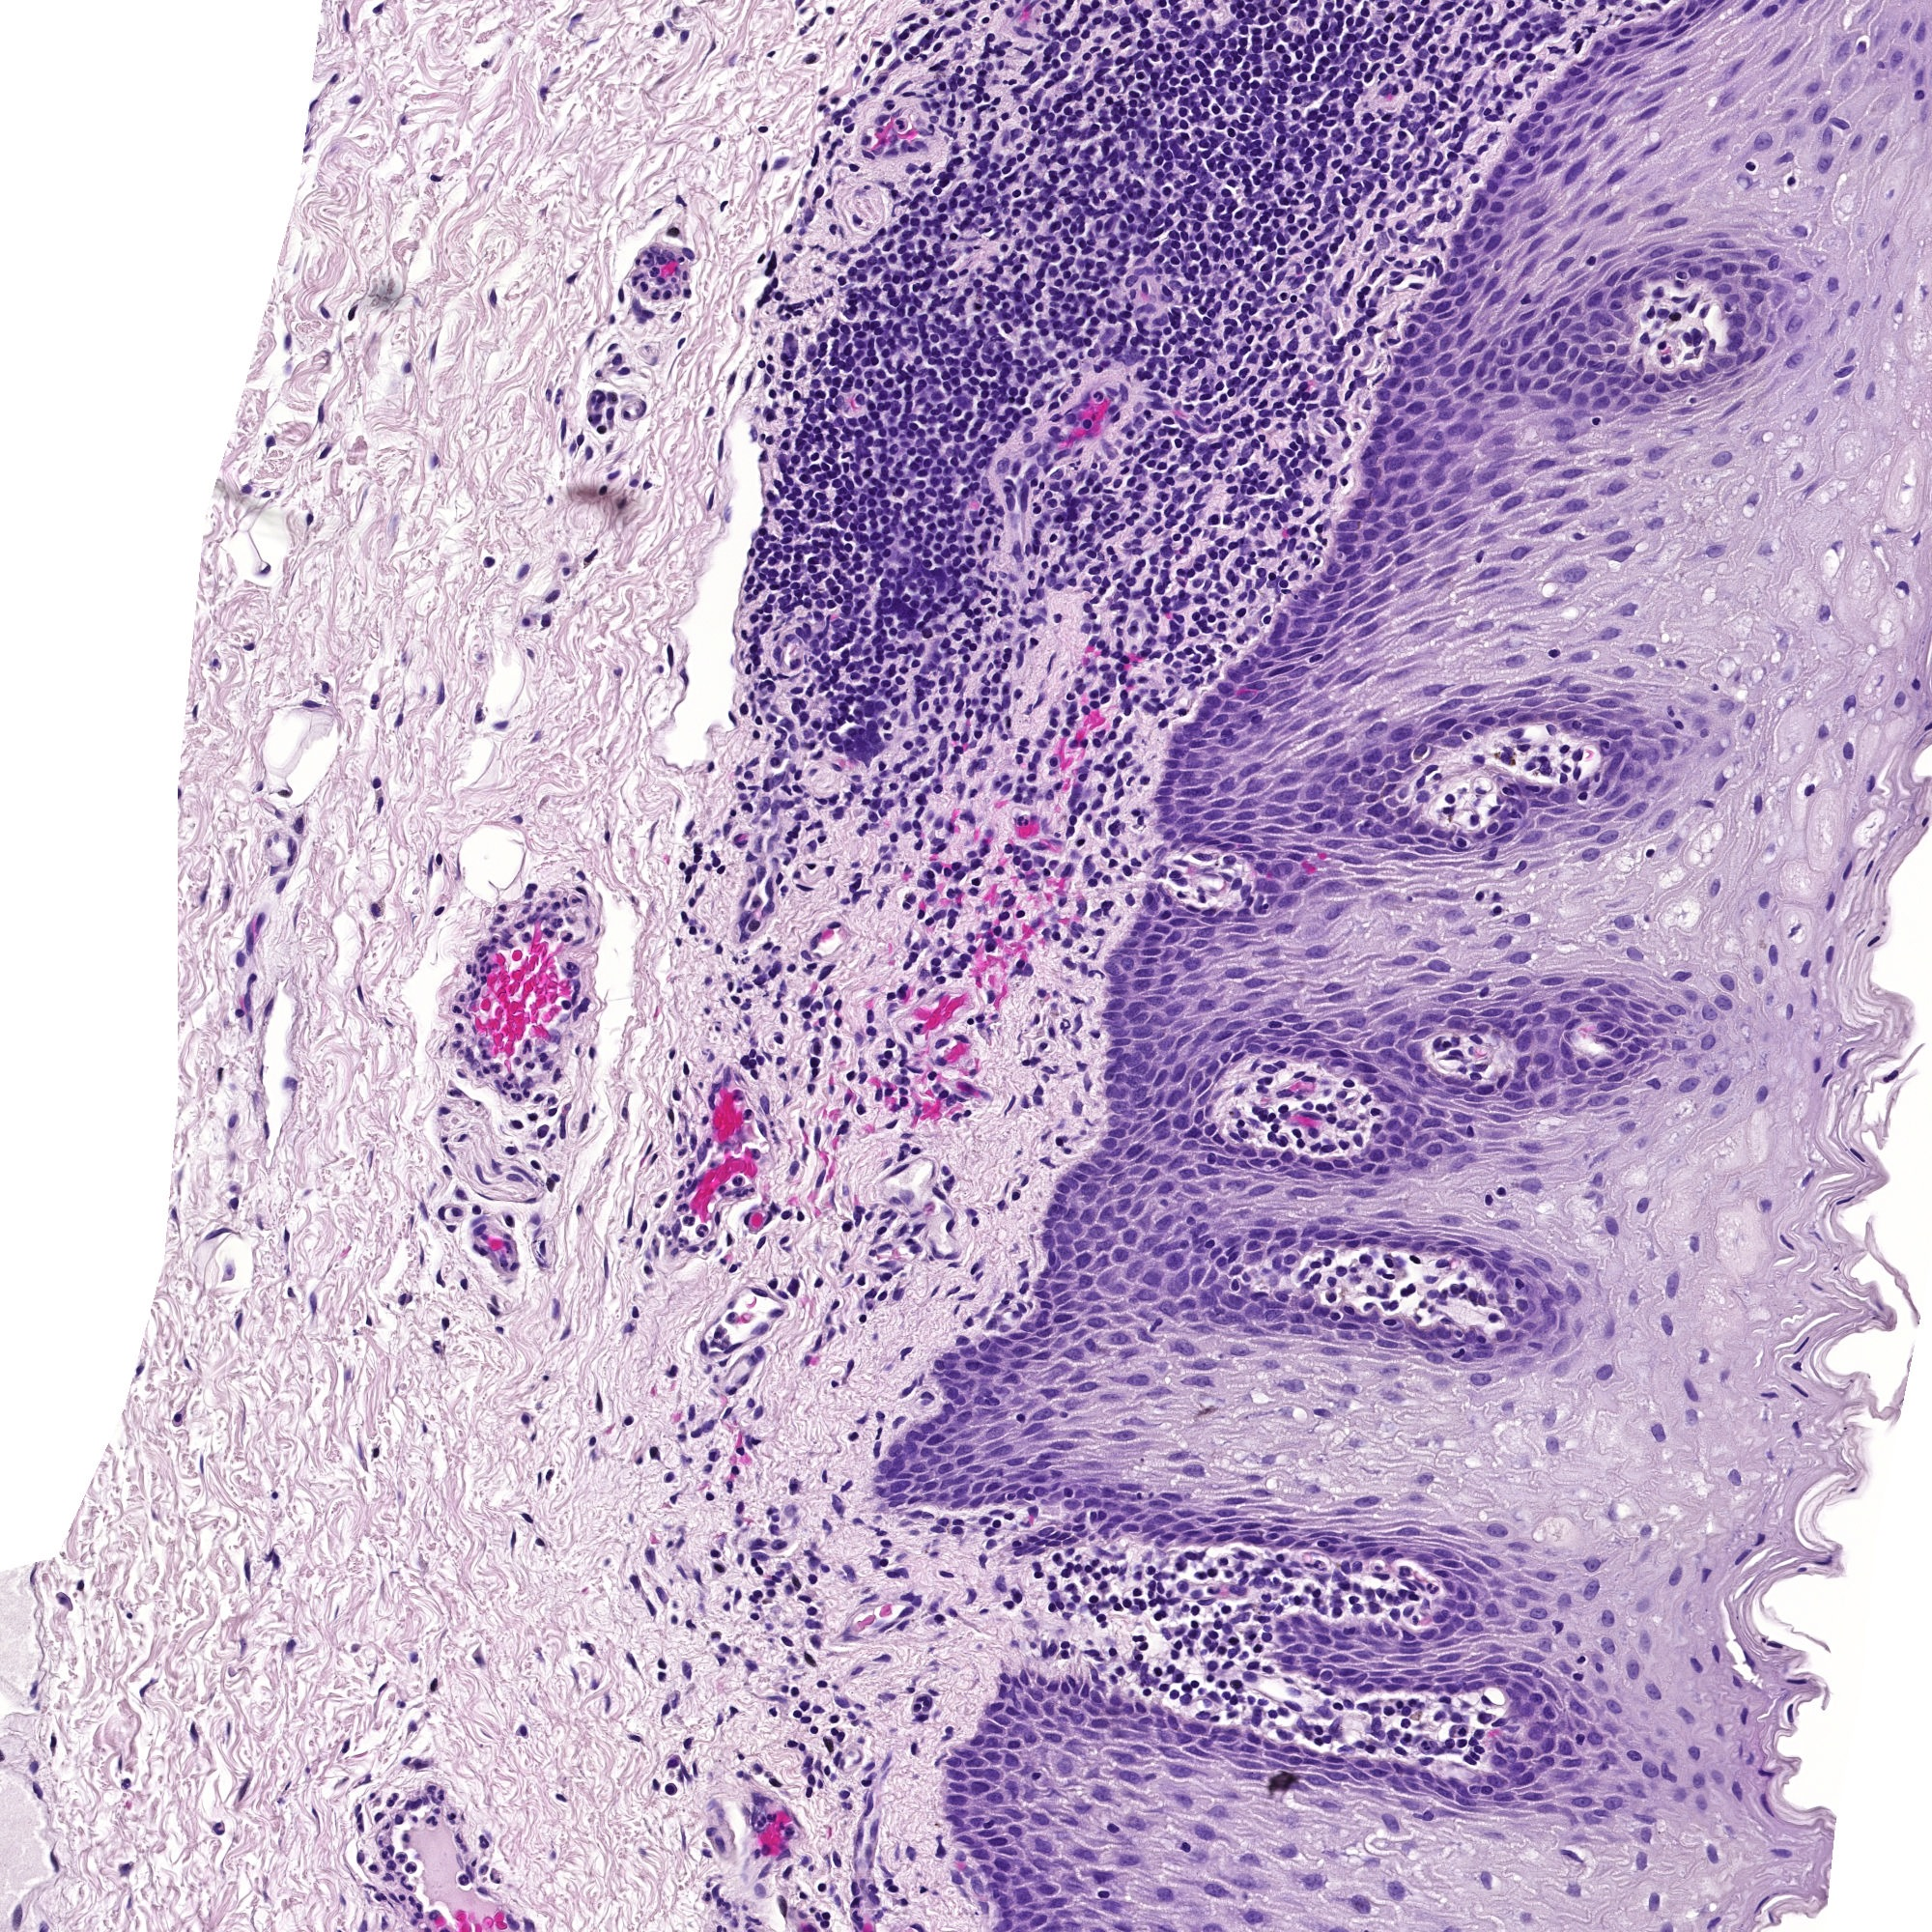epithelial: (1046, 1389, 1053, 1398), (1456, 248, 1463, 255), (1435, 290, 1442, 297), (1145, 1718, 1152, 1725), (975, 1884, 982, 1891), (1732, 1476, 1739, 1483), (1384, 1339, 1391, 1346), (1511, 660, 1518, 667), (1645, 110, 1654, 115), (1012, 1810, 1017, 1819), (1132, 1821, 1138, 1829), (1116, 1336, 1125, 1341), (1175, 1069, 1180, 1077), (1507, 1752, 1516, 1757), (1767, 7, 1773, 14), (1760, 138, 1767, 143), (1474, 230, 1479, 237), (1490, 241, 1497, 246), (1026, 1706, 1033, 1711), (1076, 1716, 1081, 1723), (1090, 1706, 1095, 1713), (1072, 1698, 1079, 1704), (1039, 1815, 1044, 1822), (1127, 1773, 1132, 1780), (1180, 1737, 1187, 1743), (1164, 1734, 1171, 1739), (1039, 1845, 1046, 1851), (1037, 1863, 1042, 1870), (1003, 1900, 1010, 1905), (985, 1867, 991, 1874), (1157, 1500, 1162, 1507), (1070, 1500, 1076, 1507), (915, 1465, 920, 1472), (920, 1476, 925, 1483), (922, 1449, 927, 1456), (1088, 1341, 1095, 1346), (1131, 1269, 1138, 1274), (1100, 1214, 1108, 1219), (1122, 1203, 1129, 1208), (1178, 1120, 1184, 1127), (1139, 1031, 1146, 1037), (1398, 1675, 1403, 1683), (1522, 1752, 1529, 1757), (1497, 1759, 1502, 1766), (1569, 1760, 1576, 1766), (1247, 1760, 1254, 1766), (1249, 1773, 1256, 1778), (1315, 1776, 1320, 1783), (1580, 1799, 1587, 1805), (1612, 1799, 1617, 1806), (1589, 1815, 1594, 1822), (1608, 1753, 1614, 1760), (1605, 1615, 1612, 1621), (1631, 1668, 1637, 1675), (1495, 1530, 1502, 1536), (1477, 1376, 1484, 1382), (1201, 1361, 1207, 1368), (1290, 1384, 1297, 1389), (1571, 1292, 1578, 1297), (1552, 1288, 1559, 1293), (1518, 1157, 1525, 1162), (1601, 1060, 1608, 1065), (1559, 794, 1566, 800), (1444, 458, 1451, 464), (1465, 366, 1470, 373), (1798, 228, 1803, 235), (1748, 1658, 1752, 1667), (1569, 471, 1578, 474), (1918, 32, 1923, 37), (1537, 103, 1543, 108), (1546, 150, 1552, 156), (1548, 166, 1553, 172), (1534, 209, 1539, 214), (1472, 203, 1477, 209), (1456, 237, 1461, 242), (991, 1755, 996, 1760), (1000, 1718, 1005, 1723), (1028, 1736, 1033, 1741), (1063, 1707, 1069, 1713), (1122, 1757, 1127, 1762), (1184, 1798, 1189, 1803), (1099, 1875, 1104, 1881), (1109, 1904, 1115, 1909), (1184, 1511, 1189, 1516), (1067, 1490, 1072, 1495), (1037, 1490, 1042, 1495), (1109, 1504, 1115, 1509), (975, 1499, 980, 1504), (957, 1500, 962, 1506), (961, 1447, 966, 1453), (911, 1433, 916, 1438), (985, 1368, 991, 1373), (1033, 1426, 1039, 1431), (1154, 1392, 1159, 1398), (1191, 1378, 1196, 1384), (1182, 1346, 1187, 1352), (1074, 1352, 1079, 1357), (1039, 1320, 1044, 1325), (1076, 1332, 1081, 1338), (1042, 1272, 1047, 1277), (1056, 1284, 1062, 1290), (1173, 1260, 1178, 1265), (1046, 1240, 1051, 1246), (1079, 1258, 1085, 1263), (1085, 1215, 1090, 1221), (1177, 1161, 1182, 1166), (1088, 1189, 1093, 1194), (1100, 1161, 1106, 1166), (1109, 1088, 1115, 1093), (1131, 1079, 1136, 1085), (1164, 1042, 1169, 1047), (1438, 1571, 1444, 1576), (1313, 1619, 1318, 1624), (1284, 1637, 1290, 1642), (1336, 1679, 1341, 1684), (1419, 1686, 1424, 1691), (1449, 1686, 1454, 1691), (1336, 1656, 1341, 1661), (1548, 1691, 1553, 1697), (1562, 1775, 1568, 1780), (1536, 1783, 1541, 1789), (1493, 1778, 1499, 1783), (1200, 1829, 1205, 1835), (1215, 1810, 1221, 1815), (1214, 1888, 1219, 1893), (1249, 1914, 1254, 1920), (1309, 1750, 1315, 1755), (1778, 1851, 1783, 1856), (1543, 1642, 1548, 1647), (1573, 1638, 1578, 1644), (1562, 1663, 1568, 1668), (1467, 1573, 1472, 1578), (1451, 1530, 1456, 1536), (1237, 1348, 1242, 1353), (1233, 1299, 1238, 1304), (1214, 1249, 1219, 1254), (1251, 1327, 1256, 1332), (1302, 1191, 1307, 1196), (1247, 1150, 1253, 1155), (1500, 1077, 1506, 1083), (1624, 1125, 1629, 1131), (1541, 1033, 1546, 1039), (1845, 748, 1851, 754), (1704, 801, 1709, 807), (1605, 833, 1610, 839), (1437, 962, 1442, 968), (1424, 943, 1430, 948), (1299, 879, 1304, 885), (1364, 879, 1369, 885), (1267, 851, 1272, 856), (1325, 810, 1330, 816), (1311, 789, 1316, 794), (1352, 796, 1357, 801), (1520, 715, 1525, 720), (1573, 573, 1578, 579), (1615, 534, 1621, 540), (1272, 639, 1277, 644), (1277, 625, 1283, 630), (1371, 513, 1376, 518), (1392, 533, 1398, 538), (1467, 412, 1472, 418), (1599, 402, 1605, 407), (1539, 462, 1545, 467), (1576, 324, 1582, 329), (1771, 260, 1776, 265), (1714, 232, 1720, 237), (1499, 439, 1504, 444), (1819, 111, 1822, 119), (1822, 163, 1829, 166), (1826, 134, 1829, 142), (1552, 96, 1559, 99), (1559, 85, 1566, 88), (1594, 96, 1601, 99), (1467, 221, 1474, 225), (1445, 276, 1453, 280), (955, 1799, 962, 1803), (1100, 1790, 1104, 1798), (1076, 1493, 1083, 1497), (1037, 1283, 1044, 1286), (1085, 1279, 1092, 1283), (1063, 1249, 1067, 1256), (1159, 1221, 1166, 1224), (1154, 1000, 1161, 1003), (1445, 1656, 1453, 1660), (1380, 1665, 1387, 1668), (1518, 1665, 1522, 1672), (1247, 1856, 1251, 1863), (1486, 1877, 1490, 1884), (1527, 1591, 1534, 1594), (1422, 1477, 1426, 1484), (1499, 1297, 1506, 1300), (1361, 1191, 1368, 1194), (1640, 1201, 1644, 1208), (1691, 993, 1695, 1000), (1640, 1028, 1644, 1035), (1529, 1007, 1536, 1010), (1463, 929, 1470, 932), (1403, 959, 1410, 962), (1348, 856, 1355, 860), (1637, 752, 1640, 759), (1430, 736, 1437, 740), (1375, 727, 1382, 731), (1644, 648, 1647, 655), (1626, 607, 1629, 614), (1488, 863, 1495, 867), (1458, 488, 1465, 492), (1831, 281, 1835, 288), (1877, 143, 1882, 147), (1854, 142, 1859, 145), (1810, 85, 1815, 88), (1787, 111, 1790, 117), (1716, 142, 1721, 145), (1614, 65, 1619, 69), (1573, 69, 1578, 73), (1453, 260, 1456, 265), (1467, 257, 1472, 260), (1470, 271, 1476, 274), (1456, 288, 1461, 292), (1461, 297, 1465, 303), (1476, 281, 1479, 287), (1488, 285, 1493, 288), (952, 1773, 955, 1778), (989, 1773, 993, 1778), (975, 1760, 980, 1764), (952, 1760, 955, 1766), (991, 1727, 994, 1732), (1000, 1693, 1005, 1697), (1012, 1697, 1016, 1702), (1014, 1683, 1019, 1686), (1017, 1727, 1023, 1730), (1046, 1723, 1051, 1727), (1072, 1681, 1076, 1686), (1109, 1709, 1113, 1714), (1139, 1707, 1143, 1713), (1155, 1709, 1159, 1714), (994, 1798, 1000, 1801), (954, 1821, 959, 1824), (998, 1819, 1001, 1824), (1079, 1808, 1085, 1812), (1139, 1748, 1143, 1753), (1180, 1769, 1184, 1775), (1169, 1752, 1175, 1755), (1191, 1748, 1194, 1753), (1012, 1829, 1017, 1833), (996, 1840, 1001, 1844), (962, 1838, 968, 1842), (998, 1863, 1003, 1867), (998, 1875, 1001, 1881), (1023, 1914, 1028, 1918), (1037, 1920, 1042, 1923), (1054, 1900, 1060, 1904), (1035, 1904, 1040, 1907), (1069, 1886, 1074, 1890), (1123, 1859, 1129, 1863), (1081, 1852, 1086, 1856), (1162, 1891, 1168, 1895), (1016, 1552, 1019, 1557), (1162, 1518, 1168, 1522), (1152, 1532, 1157, 1536), (1166, 1493, 1169, 1499), (1192, 1467, 1196, 1472), (1019, 1491, 1024, 1495), (1053, 1484, 1056, 1490), (1131, 1509, 1134, 1514), (1108, 1490, 1111, 1495), (1090, 1486, 1095, 1490), (890, 1472, 893, 1477), (1062, 1444, 1065, 1449), (1122, 1435, 1127, 1438), (943, 1447, 947, 1453), (927, 1426, 931, 1431), (932, 1437, 936, 1442), (962, 1415, 966, 1421), (947, 1408, 952, 1412), (950, 1392, 955, 1396), (994, 1430, 998, 1435), (977, 1398, 980, 1403), (962, 1384, 966, 1389), (952, 1373, 955, 1378), (938, 1362, 941, 1368), (950, 1353, 954, 1359), (971, 1364, 977, 1368), (989, 1357, 994, 1361), (1019, 1348, 1024, 1352), (1016, 1362, 1021, 1366), (1083, 1385, 1088, 1389), (1074, 1376, 1079, 1380), (1138, 1378, 1141, 1384), (1127, 1352, 1131, 1357), (1040, 1353, 1044, 1359), (1031, 1339, 1037, 1343), (1042, 1330, 1046, 1336), (1095, 1322, 1099, 1327), (1070, 1399, 1076, 1403), (1058, 1297, 1063, 1300), (1090, 1295, 1095, 1299), (1116, 1284, 1120, 1290), (1143, 1293, 1148, 1297), (1168, 1306, 1171, 1311), (1143, 1336, 1146, 1341), (1187, 1315, 1192, 1318), (1182, 1302, 1187, 1306), (1180, 1279, 1185, 1283), (1194, 1276, 1200, 1279), (1100, 1263, 1106, 1267), (1118, 1253, 1122, 1258), (1104, 1244, 1109, 1247), (1076, 1226, 1079, 1231), (1058, 1226, 1063, 1230), (1047, 1223, 1053, 1226), (1136, 1208, 1139, 1214), (1162, 1187, 1168, 1191), (1157, 1159, 1161, 1164), (1185, 1173, 1189, 1178), (1189, 1184, 1192, 1189), (1079, 1175, 1083, 1180), (1062, 1185, 1065, 1191), (1058, 1194, 1062, 1200), (1131, 1148, 1134, 1154), (1131, 1056, 1136, 1060), (1157, 1079, 1161, 1085), (1169, 1058, 1173, 1063), (1109, 1014, 1115, 1017), (1116, 987, 1122, 991), (1171, 1005, 1175, 1010), (1109, 966, 1113, 971), (1125, 962, 1129, 968), (1141, 971, 1146, 975), (1166, 954, 1169, 959), (1189, 989, 1194, 993), (1223, 1511, 1226, 1516), (1249, 1523, 1254, 1527), (1391, 1555, 1396, 1559), (1451, 1562, 1454, 1568), (1447, 1585, 1453, 1589), (1447, 1603, 1453, 1606), (1437, 1615, 1442, 1619), (1428, 1633, 1433, 1637), (1407, 1633, 1410, 1638), (1320, 1637, 1325, 1640), (1297, 1617, 1300, 1622), (1295, 1647, 1300, 1651), (1309, 1672, 1315, 1675), (1352, 1679, 1355, 1684), (1362, 1688, 1368, 1691), (1440, 1677, 1445, 1681), (1378, 1672, 1384, 1675), (1495, 1658, 1500, 1661), (1490, 1674, 1495, 1677), (1499, 1681, 1504, 1684), (1520, 1688, 1523, 1693), (1534, 1698, 1537, 1704), (1527, 1707, 1530, 1713), (1497, 1744, 1500, 1750), (1514, 1766, 1520, 1769), (1545, 1743, 1550, 1746), (1546, 1759, 1550, 1764), (1529, 1796, 1534, 1799), (1504, 1796, 1509, 1799), (1286, 1851, 1290, 1856), (1311, 1881, 1316, 1884), (1359, 1904, 1362, 1909), (1525, 1916, 1530, 1920), (1389, 1822, 1394, 1826), (1327, 1803, 1330, 1808), (1224, 1737, 1230, 1741), (1311, 1760, 1315, 1766), (1334, 1775, 1339, 1778), (1357, 1773, 1361, 1778), (1382, 1764, 1387, 1767), (1394, 1780, 1398, 1785), (1652, 1900, 1656, 1905), (1638, 1861, 1644, 1865), (1709, 1852, 1714, 1856), (1796, 1681, 1801, 1684), (1773, 1642, 1776, 1647), (1667, 1773, 1670, 1778), (1651, 1769, 1654, 1775), (1633, 1755, 1637, 1760), (1651, 1691, 1654, 1697), (1644, 1640, 1647, 1645), (1488, 1610, 1493, 1614), (1460, 1594, 1463, 1599), (1490, 1560, 1493, 1566), (1543, 1575, 1548, 1578), (1591, 1562, 1594, 1568), (1672, 1578, 1677, 1582), (1796, 1426, 1799, 1431), (1794, 1366, 1799, 1369), (1691, 1414, 1695, 1419), (1656, 1431, 1661, 1435), (1644, 1530, 1647, 1536), (1548, 1419, 1552, 1424), (1606, 1329, 1612, 1332), (1364, 1500, 1369, 1504), (1431, 1357, 1437, 1361), (1417, 1343, 1421, 1348), (1364, 1332, 1368, 1338), (1502, 1332, 1506, 1338), (1484, 1345, 1488, 1350), (1270, 1362, 1274, 1368), (1389, 1369, 1394, 1373), (1260, 1490, 1263, 1495), (1341, 1509, 1346, 1513), (1295, 1316, 1300, 1320), (1269, 1313, 1274, 1316), (1253, 1309, 1256, 1315), (1205, 1297, 1208, 1302), (1279, 1297, 1284, 1300), (1343, 1334, 1348, 1338), (1329, 1322, 1332, 1327), (1499, 1284, 1504, 1288), (1580, 1267, 1583, 1272), (1539, 1263, 1545, 1267), (1560, 1346, 1566, 1350), (1560, 1368, 1566, 1371), (1330, 1242, 1336, 1246), (1306, 1242, 1309, 1247), (1260, 1233, 1263, 1238), (1228, 1238, 1233, 1242), (1254, 1254, 1258, 1260), (1203, 1168, 1208, 1171), (1339, 1161, 1343, 1166), (1323, 1164, 1327, 1169), (1267, 1152, 1270, 1157), (1353, 1159, 1359, 1162), (1417, 1139, 1422, 1143), (1394, 1108, 1399, 1111), (1431, 1148, 1437, 1152), (1437, 1111, 1440, 1116), (1412, 1051, 1417, 1054), (1369, 1042, 1375, 1046), (1343, 1035, 1348, 1039), (1290, 1016, 1293, 1021), (1405, 1026, 1408, 1031), (1433, 1016, 1437, 1021), (1461, 985, 1465, 991), (1539, 1058, 1545, 1062), (1532, 1079, 1536, 1085), (1529, 1182, 1532, 1187), (1530, 1146, 1536, 1150), (1610, 1223, 1614, 1228), (1670, 1283, 1674, 1288), (1693, 1242, 1697, 1247), (1720, 1083, 1725, 1086), (1686, 1085, 1691, 1088), (1568, 1067, 1571, 1072), (1592, 1070, 1596, 1076), (1812, 996, 1815, 1001), (1828, 952, 1831, 957), (1771, 955, 1776, 959), (1757, 973, 1760, 978), (1727, 980, 1732, 984), (1707, 1012, 1713, 1016), (1674, 1008, 1677, 1014), (1658, 1016, 1661, 1021), (1619, 987, 1622, 993), (1635, 1005, 1638, 1010), (1571, 1021, 1576, 1024), (1568, 994, 1571, 1000), (1522, 1039, 1527, 1042), (1520, 918, 1525, 922), (1633, 952, 1637, 957), (1713, 888, 1716, 893), (1847, 701, 1851, 706), (1750, 718, 1753, 724), (1718, 780, 1723, 784), (1674, 842, 1677, 847), (1635, 809, 1640, 812), (1587, 828, 1591, 833), (1451, 915, 1456, 918), (1424, 977, 1428, 982), (1233, 1023, 1238, 1026), (1376, 1005, 1380, 1010), (1315, 950, 1320, 954), (1152, 936, 1157, 939), (1332, 908, 1336, 913), (1332, 885, 1338, 888), (1362, 869, 1368, 872), (1302, 846, 1307, 849), (1258, 867, 1263, 870), (1247, 846, 1253, 849), (1224, 846, 1230, 849), (1240, 837, 1244, 842), (1185, 837, 1189, 842), (1212, 812, 1215, 817), (1168, 833, 1173, 837), (1221, 801, 1226, 805), (1247, 801, 1251, 807), (1307, 805, 1311, 810), (1313, 826, 1316, 832), (1339, 816, 1345, 819), (1391, 771, 1394, 777), (1614, 759, 1617, 764), (1624, 770, 1628, 775), (1615, 732, 1619, 738), (1605, 699, 1608, 704), (1667, 741, 1670, 747), (1444, 722, 1449, 725), (1530, 699, 1536, 702), (1431, 688, 1437, 692), (1431, 717, 1437, 720), (1622, 671, 1626, 676), (1578, 655, 1583, 658), (1297, 722, 1300, 727), (1488, 571, 1493, 575), (1364, 630, 1368, 635), (1332, 637, 1336, 642), (1330, 594, 1334, 600), (1175, 752, 1178, 757), (1177, 736, 1182, 740), (1212, 701, 1215, 706), (1207, 732, 1212, 736), (1254, 718, 1260, 722), (1762, 548, 1767, 552), (1571, 504, 1576, 508), (1615, 487, 1621, 490), (1656, 453, 1661, 456), (1509, 501, 1514, 504), (1499, 488, 1504, 492), (1440, 502, 1444, 508), (1453, 520, 1458, 524), (1399, 543, 1405, 547), (1486, 524, 1490, 529), (1353, 511, 1357, 517), (1384, 418, 1387, 423), (1369, 533, 1373, 538), (1380, 584, 1384, 589), (1398, 517, 1401, 522), (1398, 501, 1403, 504), (1405, 479, 1410, 483), (1437, 478, 1440, 483), (1419, 458, 1422, 464), (1415, 405, 1419, 410), (1384, 393, 1387, 398), (1421, 370, 1424, 375), (1405, 345, 1408, 350), (1399, 357, 1403, 363), (1394, 370, 1399, 373), (1442, 357, 1445, 363), (1479, 370, 1484, 373), (1486, 354, 1490, 359), (1506, 386, 1509, 391), (1504, 373, 1507, 379), (1502, 359, 1506, 364), (1522, 357, 1525, 363), (1522, 382, 1527, 386), (1506, 402, 1511, 405), (1578, 398, 1582, 403), (1649, 396, 1652, 402), (1426, 306, 1430, 311), (1433, 326, 1437, 331), (1621, 349, 1626, 352), (1596, 364, 1599, 370), (1610, 377, 1614, 382), (1624, 380, 1629, 384), (1707, 366, 1711, 372), (1730, 345, 1736, 349), (1792, 322, 1798, 326), (1852, 306, 1856, 311), (1721, 241, 1725, 246), (1693, 269, 1698, 272), (1596, 207, 1599, 212), (1522, 124, 1525, 129), (1534, 113, 1537, 119), (1596, 44, 1601, 48), (1688, 5, 1693, 9), (1836, 120, 1840, 124), (1916, 78, 1920, 81), (1918, 94, 1921, 97), (1893, 57, 1897, 60), (1904, 27, 1907, 30), (1842, 50, 1845, 53), (1677, 69, 1681, 73), (1596, 122, 1603, 124), (1490, 186, 1493, 189), (1497, 205, 1500, 209), (1495, 295, 1499, 299), (964, 1752, 968, 1755), (975, 1741, 978, 1744), (994, 1706, 998, 1709), (1003, 1677, 1007, 1681), (1023, 1677, 1026, 1681), (1035, 1693, 1039, 1697), (1012, 1743, 1016, 1746), (1010, 1759, 1014, 1762), (977, 1787, 980, 1790), (957, 1785, 961, 1789), (1047, 1706, 1051, 1709), (1053, 1737, 1056, 1741), (1063, 1766, 1067, 1769), (1095, 1698, 1099, 1702), (1115, 1700, 1118, 1704), (1125, 1709, 1129, 1713), (1069, 1819, 1072, 1822), (1171, 1723, 1175, 1727), (985, 1833, 989, 1836), (978, 1852, 982, 1856), (1044, 1888, 1047, 1891), (1023, 1895, 1026, 1898), (1007, 1913, 1010, 1916), (1003, 1925, 1007, 1928), (1063, 1913, 1067, 1916), (1044, 1530, 1047, 1534), (1030, 1537, 1033, 1541), (1090, 1514, 1093, 1518), (1100, 1514, 1104, 1518), (1106, 1527, 1109, 1530), (1129, 1527, 1132, 1530), (1148, 1527, 1152, 1530), (1168, 1536, 1171, 1539), (1180, 1527, 1184, 1530), (1178, 1454, 1182, 1458), (1129, 1484, 1132, 1488), (939, 1497, 943, 1500), (929, 1497, 932, 1500), (897, 1495, 901, 1499), (897, 1484, 901, 1488), (878, 1477, 881, 1481), (893, 1447, 897, 1451), (897, 1458, 901, 1461), (927, 1484, 931, 1488), (943, 1467, 947, 1470), (977, 1486, 980, 1490), (991, 1486, 994, 1490), (971, 1467, 975, 1470), (964, 1460, 968, 1463), (934, 1458, 938, 1461), (908, 1447, 911, 1451), (941, 1417, 945, 1421), (948, 1428, 952, 1431), (959, 1399, 962, 1403), (964, 1433, 968, 1437), (989, 1401, 993, 1405), (968, 1350, 971, 1353), (961, 1338, 964, 1341), (982, 1343, 985, 1346), (994, 1348, 998, 1352), (1000, 1391, 1003, 1394), (1042, 1412, 1046, 1415), (1058, 1343, 1062, 1346), (1024, 1325, 1028, 1329), (1134, 1421, 1138, 1424), (1120, 1316, 1123, 1320), (1051, 1256, 1054, 1260), (1062, 1238, 1065, 1242), (1065, 1274, 1069, 1277), (1127, 1235, 1131, 1238), (1095, 1231, 1099, 1235), (1079, 1244, 1083, 1247), (1118, 1223, 1122, 1226), (1125, 1189, 1129, 1192), (1143, 1189, 1146, 1192), (1115, 1177, 1118, 1180), (1115, 1168, 1118, 1171), (1070, 1180, 1074, 1184), (1115, 1131, 1118, 1134), (1169, 1097, 1173, 1100), (1116, 1104, 1120, 1108), (1108, 1074, 1111, 1077), (1111, 1053, 1115, 1056), (1115, 1031, 1118, 1035), (1139, 1069, 1143, 1072), (1150, 1074, 1154, 1077), (1120, 1076, 1123, 1079), (1141, 982, 1145, 985), (1138, 1019, 1141, 1023), (1154, 1019, 1157, 1023), (1118, 978, 1122, 982), (1182, 954, 1185, 957), (1201, 1539, 1205, 1543), (1233, 1500, 1237, 1504), (1284, 1539, 1288, 1543), (1329, 1548, 1332, 1552), (1408, 1530, 1412, 1534), (1389, 1629, 1392, 1633), (1373, 1629, 1376, 1633), (1283, 1626, 1286, 1629), (1286, 1658, 1290, 1661), (1343, 1644, 1346, 1647), (1376, 1679, 1380, 1683), (1472, 1684, 1476, 1688), (1472, 1626, 1476, 1629), (1444, 1642, 1447, 1645), (1511, 1693, 1514, 1697), (1546, 1713, 1550, 1716), (1536, 1732, 1539, 1736), (1523, 1778, 1527, 1782), (1396, 1891, 1399, 1895), (1207, 1741, 1210, 1744), (1251, 1737, 1254, 1741), (1269, 1744, 1272, 1748), (1293, 1759, 1297, 1762), (1290, 1748, 1293, 1752), (1330, 1757, 1334, 1760), (1399, 1767, 1403, 1771), (1412, 1783, 1415, 1787), (1424, 1775, 1428, 1778), (1442, 1790, 1445, 1794), (1453, 1782, 1456, 1785), (1575, 1706, 1578, 1709), (1582, 1688, 1583, 1695), (1589, 1591, 1592, 1594), (1679, 1794, 1683, 1798), (1697, 1780, 1700, 1783), (1764, 1771, 1767, 1775), (1716, 1776, 1720, 1780), (1789, 1714, 1792, 1718), (1695, 1663, 1698, 1667), (1684, 1714, 1688, 1718), (1530, 1654, 1534, 1658), (1529, 1626, 1532, 1629), (1562, 1599, 1566, 1603), (1472, 1592, 1476, 1596), (1516, 1601, 1520, 1605), (1769, 1392, 1773, 1396), (1690, 1389, 1693, 1392), (1516, 1546, 1520, 1550), (1550, 1444, 1552, 1451), (1667, 1323, 1670, 1327), (1322, 1412, 1325, 1415), (1330, 1350, 1334, 1353), (1269, 1458, 1272, 1461), (1251, 1476, 1254, 1479), (1299, 1327, 1302, 1330), (1231, 1316, 1235, 1320), (1276, 1325, 1279, 1329), (1320, 1311, 1323, 1315), (1306, 1302, 1309, 1306), (1346, 1323, 1350, 1327), (1506, 1309, 1509, 1313), (1514, 1318, 1518, 1322), (1545, 1302, 1548, 1306), (1529, 1267, 1532, 1270), (1514, 1270, 1518, 1274), (1550, 1315, 1553, 1318), (1490, 1276, 1493, 1279), (1476, 1261, 1479, 1265), (1500, 1254, 1504, 1258), (1309, 1230, 1313, 1233), (1504, 1223, 1507, 1226), (1283, 1231, 1286, 1235), (1235, 1269, 1238, 1272), (1233, 1256, 1237, 1260), (1223, 1159, 1226, 1162), (1272, 1161, 1276, 1164), (1201, 1097, 1205, 1100), (1297, 1051, 1300, 1054), (1336, 1053, 1339, 1056), (1369, 1077, 1371, 1085), (1384, 1095, 1387, 1099), (1375, 1154, 1378, 1157), (1392, 1150, 1396, 1154), (1394, 1138, 1398, 1141), (1378, 1138, 1382, 1141), (1364, 1150, 1368, 1154), (1417, 1161, 1421, 1164), (1405, 1131, 1408, 1134), (1408, 1118, 1412, 1122), (1445, 1136, 1449, 1139), (1430, 1122, 1433, 1125), (1460, 1116, 1463, 1120), (1392, 1086, 1396, 1090), (1421, 1067, 1424, 1070), (1361, 1054, 1364, 1058), (1396, 1017, 1399, 1021), (1421, 1031, 1424, 1035), (1460, 1010, 1463, 1014), (1447, 996, 1451, 1000), (1454, 1081, 1458, 1085), (1483, 1088, 1486, 1092), (1522, 1102, 1525, 1106), (1497, 1116, 1500, 1120), (1631, 1297, 1635, 1300), (1652, 1083, 1656, 1086), (1575, 1090, 1578, 1093), (1566, 1051, 1569, 1054), (1615, 1076, 1619, 1079), (1706, 1039, 1709, 1042), (1764, 1203, 1767, 1207), (1787, 1012, 1790, 1016), (1723, 1001, 1727, 1005), (1619, 1031, 1622, 1035), (1559, 1014, 1562, 1017), (1516, 980, 1520, 984), (1522, 1062, 1525, 1065), (1518, 1021, 1522, 1024), (1518, 957, 1522, 961), (1762, 899, 1766, 902), (1898, 697, 1902, 701), (1605, 814, 1608, 817), (1447, 893, 1451, 897), (1235, 971, 1238, 975), (1338, 996, 1341, 1000), (1283, 927, 1286, 931), (1244, 927, 1247, 931), (1196, 941, 1200, 945), (1169, 936, 1173, 939), (1205, 931, 1208, 934), (1286, 897, 1288, 904), (1269, 886, 1272, 890), (1279, 867, 1283, 870), (1293, 855, 1297, 858), (1240, 824, 1244, 828), (1184, 819, 1187, 823), (1169, 819, 1173, 823), (1171, 773, 1175, 777), (1185, 791, 1189, 794), (1191, 809, 1194, 812), (1226, 782, 1230, 786), (1284, 796, 1288, 800), (1272, 810, 1276, 814), (1272, 828, 1276, 832), (1376, 810, 1380, 814), (1399, 810, 1403, 814), (1401, 791, 1405, 794), (1350, 763, 1353, 766), (1371, 754, 1375, 757), (1401, 754, 1405, 757), (1421, 828, 1424, 832), (1437, 833, 1440, 837), (1426, 839, 1430, 842), (1387, 844, 1391, 847), (1424, 849, 1428, 853), (1536, 801, 1539, 805), (1599, 787, 1603, 791), (1651, 755, 1654, 759), (1608, 711, 1612, 715), (1449, 740, 1453, 743), (1456, 727, 1460, 731), (1449, 702, 1453, 706), (1315, 759, 1318, 763), (1578, 686, 1582, 690), (1369, 713, 1373, 717), (1483, 625, 1486, 628), (1419, 626, 1422, 630), (1345, 674, 1348, 678), (1320, 681, 1323, 685), (1622, 552, 1626, 556), (1714, 548, 1718, 552), (1548, 525, 1552, 529), (1516, 552, 1520, 556), (1442, 571, 1445, 575), (1362, 617, 1369, 619), (1311, 640, 1315, 644), (1214, 761, 1217, 764), (1203, 711, 1207, 715), (1196, 741, 1200, 745), (1226, 740, 1230, 743), (1283, 692, 1286, 695), (1244, 694, 1247, 697), (1295, 671, 1299, 674), (1295, 633, 1299, 637), (1545, 817, 1548, 821), (1753, 499, 1757, 502), (1622, 460, 1626, 464), (1401, 557, 1405, 561), (1576, 534, 1580, 538), (1330, 566, 1334, 570), (1345, 547, 1348, 550), (1346, 534, 1350, 538), (1394, 462, 1398, 465), (1366, 550, 1369, 554), (1419, 508, 1422, 511), (1414, 497, 1417, 501), (1405, 384, 1408, 387), (1490, 384, 1493, 387), (1564, 393, 1568, 396), (1587, 375, 1591, 379), (1598, 387, 1601, 391), (1622, 402, 1626, 405), (1545, 402, 1548, 405), (1444, 341, 1447, 345), (1461, 336, 1465, 340), (1527, 334, 1530, 338), (1428, 347, 1431, 350), (1568, 241, 1571, 244), (1562, 262, 1566, 265), (1571, 352, 1575, 356), (1591, 349, 1594, 352), (1605, 318, 1608, 322), (1615, 303, 1619, 306), (1610, 278, 1614, 281), (1626, 274, 1629, 278), (1608, 334, 1612, 338), (1610, 363, 1614, 366), (1677, 384, 1681, 387), (1737, 318, 1741, 322), (1759, 350, 1762, 354), (1767, 334, 1771, 338), (1792, 361, 1796, 364), (1801, 274, 1805, 278), (1748, 267, 1752, 271), (1734, 297, 1737, 301), (1713, 272, 1716, 276), (1736, 253, 1739, 257), (1658, 249, 1661, 253), (1661, 207, 1665, 211), (1614, 216, 1617, 219), (1562, 421, 1566, 425), (1509, 156, 1513, 159), (1555, 129, 1559, 133), (1573, 142, 1576, 145), (1615, 175, 1619, 179), (1629, 67, 1633, 71), (1606, 48, 1610, 51), (1674, 14, 1677, 18), (1645, 41, 1651, 42), (1573, 170, 1578, 172), (1097, 1721, 1099, 1727), (1115, 1518, 1120, 1520), (1054, 1472, 1056, 1477), (885, 1490, 886, 1495), (1037, 1477, 1042, 1479), (1077, 1433, 1083, 1435), (1010, 1378, 1016, 1380), (1044, 1343, 1046, 1348), (1058, 1316, 1063, 1318), (1067, 1325, 1072, 1327), (1037, 1293, 1042, 1295), (1150, 1277, 1152, 1283), (1171, 1288, 1177, 1290), (1150, 1173, 1152, 1178), (1088, 1166, 1090, 1171), (1108, 1141, 1109, 1146), (1118, 1042, 1123, 1044), (1136, 1095, 1141, 1097), (1191, 975, 1196, 977), (1315, 1534, 1320, 1536), (1345, 1672, 1350, 1674), (1405, 1658, 1410, 1660), (1525, 1677, 1527, 1683), (1511, 1729, 1516, 1730), (1566, 1746, 1568, 1752), (1244, 1748, 1249, 1750), (1330, 1766, 1336, 1767), (1594, 1736, 1596, 1741), (1698, 1801, 1704, 1803), (1736, 1789, 1737, 1794), (1741, 1716, 1746, 1718), (1642, 1603, 1644, 1608), (1465, 1612, 1470, 1614), (1603, 1371, 1605, 1376), (1479, 1353, 1484, 1355), (1348, 1387, 1350, 1392), (1387, 1214, 1392, 1215), (1187, 1145, 1192, 1146), (1258, 1189, 1263, 1191), (1196, 1230, 1201, 1231), (1272, 1046, 1274, 1051), (1392, 1122, 1394, 1127), (1376, 1127, 1382, 1129), (1357, 1021, 1359, 1026), (1299, 1026, 1304, 1028), (1856, 1152, 1858, 1157), (1844, 1056, 1845, 1062), (1679, 977, 1684, 978), (1638, 1039, 1640, 1044), (1601, 1024, 1606, 1026), (1550, 980, 1555, 982), (1537, 1016, 1539, 1021), (1624, 920, 1626, 925), (1663, 819, 1665, 824), (1178, 920, 1180, 925), (1214, 950, 1219, 952), (1254, 786, 1256, 791), (1302, 816, 1304, 821), (1401, 732, 1403, 738), (1387, 761, 1392, 763), (1387, 819, 1392, 821), (1530, 787, 1532, 793), (1288, 778, 1293, 780), (1555, 702, 1557, 708), (1548, 713, 1550, 718), (1315, 729, 1320, 731), (1231, 702, 1233, 708), (1235, 674, 1237, 679), (1553, 492, 1559, 494), (1373, 469, 1375, 474), (1378, 432, 1380, 437), (1415, 384, 1421, 386), (1463, 387, 1465, 393), (1555, 387, 1557, 393), (1614, 391, 1615, 396), (1442, 304, 1444, 310), (1619, 366, 1621, 372), (1649, 377, 1651, 382), (1760, 281, 1762, 287), (1778, 292, 1780, 297), (1729, 265, 1730, 271), (1635, 285, 1640, 287), (1780, 57, 1782, 60), (1677, 28, 1681, 30), (1622, 30, 1626, 32), (1582, 78, 1585, 80), (973, 1771, 977, 1773), (991, 1741, 993, 1744), (1010, 1709, 1012, 1713), (1040, 1679, 1042, 1683), (1053, 1686, 1054, 1690), (1065, 1688, 1067, 1691), (1035, 1775, 1037, 1778), (1083, 1693, 1086, 1695), (1012, 1787, 1014, 1790), (975, 1821, 978, 1822), (985, 1824, 989, 1826), (1192, 1727, 1194, 1730), (1007, 1851, 1010, 1852), (1024, 1870, 1026, 1874), (1051, 1928, 1054, 1930), (1039, 1543, 1042, 1545), (1031, 1548, 1033, 1552), (1054, 1534, 1058, 1536), (1076, 1529, 1079, 1530), (1191, 1532, 1192, 1536), (1139, 1516, 1141, 1520), (998, 1499, 1001, 1500), (885, 1465, 886, 1468), (897, 1467, 901, 1468), (904, 1476, 908, 1477), (913, 1488, 916, 1490), (947, 1483, 950, 1484), (961, 1488, 962, 1491), (1010, 1486, 1014, 1488), (985, 1474, 989, 1476), (1014, 1460, 1016, 1463), (1037, 1465, 1040, 1467), (1046, 1454, 1047, 1458), (1001, 1451, 1005, 1453), (994, 1442, 998, 1444), (984, 1391, 987, 1392), (1001, 1341, 1003, 1345), (1016, 1336, 1019, 1338), (1109, 1396, 1111, 1399), (1044, 1304, 1047, 1306), (1067, 1306, 1070, 1307), (1097, 1307, 1099, 1311), (1154, 1323, 1157, 1325), (1146, 1242, 1148, 1246), (1053, 1210, 1054, 1214), (1069, 1215, 1072, 1217), (1157, 1116, 1161, 1118), (1113, 1120, 1116, 1122), (1143, 1104, 1146, 1106), (1134, 1125, 1136, 1129), (1115, 1003, 1118, 1005), (1129, 1012, 1132, 1014), (1184, 1039, 1185, 1042), (1180, 1023, 1184, 1024), (1162, 991, 1166, 993), (1148, 959, 1150, 962), (1164, 980, 1168, 982), (1164, 968, 1168, 970), (1191, 962, 1194, 964), (1143, 1155, 1146, 1157), (1221, 1527, 1224, 1529), (1205, 1518, 1207, 1522), (1223, 1536, 1224, 1539), (1276, 1527, 1279, 1529), (1299, 1545, 1302, 1546), (1368, 1552, 1371, 1553), (1387, 1550, 1389, 1553), (1361, 1537, 1364, 1539), (1424, 1557, 1426, 1560), (1444, 1552, 1445, 1555), (1346, 1629, 1350, 1631), (1336, 1635, 1339, 1637), (1315, 1651, 1318, 1652), (1389, 1688, 1392, 1690), (1470, 1675, 1474, 1677), (1410, 1672, 1414, 1674), (1408, 1651, 1412, 1652), (1456, 1621, 1458, 1624), (1484, 1667, 1488, 1668), (1573, 1891, 1576, 1893), (1233, 1730, 1235, 1734), (1276, 1753, 1277, 1757), (1378, 1771, 1380, 1775), (1461, 1790, 1463, 1794), (1463, 1799, 1465, 1803), (1614, 1706, 1615, 1709), (1599, 1684, 1603, 1686), (1608, 1644, 1610, 1647), (1644, 1819, 1647, 1821), (1764, 1803, 1766, 1806), (1750, 1759, 1752, 1762), (1716, 1654, 1718, 1658), (1718, 1730, 1720, 1734), (1693, 1752, 1697, 1753), (1537, 1614, 1541, 1615), (1460, 1608, 1463, 1610), (1476, 1568, 1479, 1569), (1706, 1573, 1707, 1576), (1737, 1557, 1741, 1559), (1760, 1537, 1762, 1541), (1798, 1389, 1801, 1391), (1704, 1357, 1707, 1359), (1210, 1276, 1212, 1279), (1221, 1261, 1223, 1265), (1520, 1306, 1523, 1307), (1529, 1323, 1530, 1327), (1474, 1249, 1476, 1253), (1461, 1251, 1463, 1254), (1468, 1238, 1470, 1242), (1419, 1246, 1421, 1249), (1398, 1244, 1399, 1247), (1382, 1231, 1384, 1235), (1352, 1244, 1355, 1246), (1350, 1233, 1352, 1237), (1323, 1233, 1325, 1237), (1330, 1219, 1332, 1223), (1284, 1240, 1288, 1242), (1265, 1223, 1269, 1224), (1276, 1261, 1277, 1265), (1253, 1246, 1256, 1247), (1192, 1131, 1194, 1134), (1200, 1207, 1203, 1208), (1382, 1169, 1384, 1173), (1366, 1168, 1369, 1169), (1295, 1173, 1299, 1175), (1256, 1162, 1260, 1164), (1207, 1146, 1210, 1148), (1224, 1054, 1226, 1058), (1235, 1044, 1237, 1047), (1253, 1047, 1254, 1051), (1456, 1148, 1460, 1150), (1403, 1072, 1405, 1076), (1401, 1058, 1403, 1062), (1387, 1039, 1389, 1042), (1309, 1033, 1311, 1037), (1453, 1024, 1456, 1026), (1454, 1090, 1458, 1092), (1511, 1095, 1514, 1097), (1546, 1100, 1550, 1102), (1596, 1178, 1598, 1182), (1529, 1166, 1530, 1169), (1718, 1108, 1720, 1111), (1599, 1099, 1603, 1100), (1576, 1079, 1580, 1081), (1606, 1086, 1610, 1088), (1629, 1058, 1631, 1062), (1619, 1053, 1621, 1056), (1677, 1044, 1679, 1047), (1760, 1095, 1764, 1097), (1805, 1178, 1808, 1180), (1844, 1200, 1847, 1201), (1815, 1065, 1819, 1067), (1803, 970, 1806, 971), (1874, 939, 1875, 943), (1596, 1000, 1598, 1003), (1615, 1001, 1617, 1005), (1631, 1047, 1633, 1051), (1608, 1040, 1610, 1044), (1585, 1007, 1587, 1010), (1490, 1012, 1493, 1014), (1511, 1033, 1513, 1037), (1500, 1023, 1504, 1024), (1507, 1012, 1509, 1016), (1476, 975, 1477, 978), (1504, 941, 1506, 945), (1755, 805, 1759, 807), (1845, 869, 1847, 872), (1829, 904, 1833, 906), (1822, 731, 1824, 734), (1591, 853, 1592, 856), (1530, 835, 1532, 839), (1221, 1035, 1224, 1037), (1205, 1003, 1207, 1007), (1161, 927, 1162, 931), (1148, 952, 1152, 954), (1131, 941, 1134, 943), (1125, 950, 1127, 954), (1139, 925, 1143, 927), (1148, 899, 1150, 902), (1164, 915, 1168, 916), (1223, 913, 1224, 916), (1244, 911, 1246, 915), (1246, 855, 1247, 858), (1192, 824, 1194, 828), (1215, 824, 1219, 826), (1246, 814, 1247, 817), (1161, 870, 1162, 874), (1164, 809, 1168, 810), (1164, 791, 1168, 793), (1166, 780, 1168, 784), (1185, 777, 1189, 778), (1249, 770, 1253, 771), (1284, 821, 1286, 824), (1338, 782, 1339, 786), (1392, 800, 1394, 803), (1376, 780, 1378, 784), (1369, 770, 1371, 773), (1353, 778, 1357, 780), (1417, 750, 1421, 752), (1405, 823, 1407, 826), (1403, 839, 1405, 842), (1376, 832, 1378, 835), (1330, 842, 1334, 844), (1621, 798, 1622, 801), (1594, 720, 1596, 724), (1637, 720, 1640, 722), (1568, 725, 1571, 727), (1504, 711, 1507, 713), (1525, 690, 1527, 694), (1468, 690, 1472, 692), (1334, 738, 1338, 740), (1336, 759, 1338, 763), (1575, 697, 1578, 699), (1566, 713, 1568, 717), (1606, 633, 1610, 635), (1284, 704, 1288, 706), (1654, 522, 1658, 524), (1376, 602, 1380, 603), (1279, 669, 1283, 671), (1338, 586, 1341, 587), (1208, 775, 1210, 778), (1192, 761, 1194, 764), (1219, 717, 1221, 720), (1224, 731, 1226, 734), (1261, 695, 1265, 697), (1258, 685, 1261, 686), (1224, 688, 1228, 690), (1260, 651, 1263, 653), (1279, 649, 1281, 653), (1300, 623, 1304, 625), (1822, 614, 1826, 616), (1721, 458, 1725, 460), (1812, 416, 1813, 419), (1798, 471, 1799, 474), (1842, 386, 1844, 389), (1422, 524, 1424, 527), (1297, 610, 1300, 612), (1322, 586, 1323, 589), (1307, 594, 1309, 598), (1353, 556, 1355, 559), (1348, 524, 1350, 527), (1362, 502, 1364, 506), (1380, 446, 1382, 449), (1403, 433, 1405, 437), (1382, 497, 1384, 501), (1380, 563, 1384, 564), (1355, 580, 1359, 582), (1472, 432, 1476, 433), (1445, 370, 1447, 373), (1412, 361, 1415, 363), (1477, 345, 1479, 349), (1539, 382, 1541, 386), (1545, 356, 1546, 359), (1559, 349, 1560, 352), (1640, 409, 1642, 412), (1410, 329, 1414, 331), (1419, 317, 1421, 320), (1463, 320, 1465, 324), (1421, 340, 1424, 341), (1529, 230, 1532, 232), (1559, 301, 1562, 303), (1550, 338, 1553, 340), (1573, 310, 1575, 313), (1594, 299, 1598, 301), (1578, 338, 1582, 340), (1617, 290, 1621, 292), (1608, 349, 1612, 350), (1637, 386, 1640, 387), (1665, 375, 1668, 377), (1684, 373, 1688, 375), (1698, 373, 1702, 375), (1725, 361, 1727, 364), (1753, 327, 1757, 329), (1743, 356, 1744, 359), (1760, 253, 1764, 255), (1757, 297, 1759, 301), (1723, 285, 1725, 288), (1647, 269, 1651, 271), (1661, 260, 1663, 264), (1884, 239, 1886, 242), (1610, 253, 1614, 255), (1525, 168, 1527, 172), (1518, 180, 1520, 184), (1546, 119, 1550, 120), (1537, 131, 1541, 133), (1568, 111, 1571, 113), (1582, 119, 1583, 122), (1598, 62, 1599, 65), (1638, 28, 1642, 30), (1697, 12, 1698, 16), (1672, 25, 1674, 27), (1063, 1536, 1065, 1537), (1067, 1541, 1069, 1543), (1065, 1527, 1067, 1529), (1093, 1502, 1095, 1504), (959, 1479, 961, 1481), (945, 1380, 947, 1382), (1138, 1005, 1139, 1007), (1168, 1021, 1169, 1023), (1254, 1539, 1256, 1541), (1435, 1667, 1437, 1668), (1412, 1644, 1414, 1645), (1361, 1654, 1362, 1656), (1362, 1764, 1364, 1766), (1645, 1835, 1647, 1836), (1737, 1683, 1739, 1684), (1801, 1346, 1803, 1348), (1518, 1336, 1520, 1338), (1499, 1265, 1500, 1267), (1449, 1242, 1451, 1244), (1445, 1249, 1447, 1251), (1369, 1240, 1371, 1242), (1288, 1258, 1290, 1260), (1304, 1161, 1306, 1162), (1286, 1157, 1288, 1159), (1230, 1148, 1231, 1150), (1210, 1129, 1212, 1131), (1200, 1116, 1201, 1118), (1205, 1139, 1207, 1141), (1203, 1088, 1205, 1090), (1237, 1056, 1238, 1058), (1315, 1053, 1316, 1054), (1362, 1069, 1364, 1070), (1421, 1081, 1422, 1083), (1389, 1053, 1391, 1054), (1325, 1024, 1327, 1026), (1472, 1097, 1474, 1099), (1518, 1086, 1520, 1088), (1621, 1100, 1622, 1102), (1647, 1054, 1649, 1056), (1785, 1242, 1787, 1244), (1824, 1079, 1826, 1081), (1891, 1076, 1893, 1077), (1592, 980, 1594, 982), (1605, 991, 1606, 993), (1509, 994, 1511, 996), (1483, 991, 1484, 993), (1868, 867, 1870, 869), (1200, 1037, 1201, 1039), (1215, 1023, 1217, 1024), (1240, 1005, 1242, 1007), (1254, 982, 1256, 984), (1150, 909, 1152, 911), (1212, 920, 1214, 922), (1212, 842, 1214, 844), (1162, 800, 1164, 801), (1171, 763, 1173, 764), (1369, 796, 1371, 798), (1403, 855, 1405, 856), (1488, 720, 1490, 722), (1343, 619, 1345, 621), (1299, 651, 1300, 653), (1318, 630, 1320, 632), (1332, 605, 1334, 607), (1265, 663, 1267, 665), (1559, 809, 1560, 810), (1844, 372, 1845, 373), (1870, 393, 1872, 395), (1484, 476, 1486, 478), (1327, 579, 1329, 580), (1368, 481, 1369, 483), (1369, 460, 1371, 462), (1396, 423, 1398, 425), (1433, 444, 1435, 446), (1391, 384, 1392, 386), (1456, 382, 1458, 384), (1442, 403, 1444, 405), (1444, 414, 1445, 416), (1476, 396, 1477, 398), (1534, 364, 1536, 366), (1555, 364, 1557, 366), (1525, 317, 1527, 318), (1534, 244, 1536, 246), (1527, 267, 1529, 269), (1562, 322, 1564, 324), (1580, 359, 1582, 361), (1560, 375, 1562, 377), (1571, 375, 1573, 377), (1661, 386, 1663, 387), (1693, 253, 1695, 255), (1637, 295, 1638, 297), (1580, 281, 1582, 283), (1499, 170, 1500, 172), (1520, 138, 1522, 140), (1615, 96, 1617, 97), (1736, 67, 1737, 69), (1621, 41, 1622, 42)
fibroblast and endothelial: (683, 1667, 690, 1674), (847, 1571, 853, 1578), (660, 1592, 665, 1599), (759, 1125, 764, 1131), (679, 1569, 685, 1575), (881, 1656, 886, 1661), (835, 1504, 840, 1509), (823, 1523, 828, 1529), (803, 1596, 809, 1601), (879, 1530, 885, 1536), (686, 1622, 692, 1628), (731, 1709, 736, 1714), (685, 1741, 690, 1746), (1047, 1067, 1051, 1074), (938, 1192, 941, 1200), (970, 1594, 973, 1601), (573, 16, 579, 19), (810, 19, 814, 25), (671, 230, 676, 234), (656, 209, 660, 214), (619, 292, 623, 297), (812, 159, 817, 163), (800, 200, 805, 203), (828, 7, 832, 12), (485, 60, 488, 65), (803, 886, 809, 890), (828, 869, 832, 874), (708, 764, 713, 768), (835, 764, 839, 770), (686, 826, 692, 830), (743, 899, 747, 904), (764, 1102, 768, 1108), (800, 1122, 803, 1127), (731, 1346, 736, 1350), (934, 1253, 938, 1258), (688, 1247, 692, 1253), (685, 1067, 688, 1072), (674, 1093, 679, 1097), (860, 1062, 863, 1067), (911, 1069, 916, 1072), (741, 1380, 747, 1384), (731, 1389, 736, 1392), (690, 1412, 695, 1415), (671, 1369, 674, 1375), (879, 1414, 883, 1419), (794, 1580, 798, 1585), (755, 1555, 761, 1559), (943, 1573, 947, 1578), (939, 1615, 943, 1621), (1042, 1649, 1046, 1654), (1159, 1598, 1162, 1603), (786, 1640, 789, 1645), (775, 1576, 778, 1582), (793, 1484, 796, 1490), (720, 1658, 724, 1663), (768, 1509, 773, 1513), (738, 1557, 741, 1562), (663, 1707, 669, 1711), (773, 1780, 777, 1785), (784, 1870, 789, 1874), (835, 1859, 839, 1865), (713, 1891, 718, 1895), (784, 1852, 789, 1856), (858, 1835, 862, 1840), (870, 1829, 876, 1833), (911, 1748, 916, 1752), (492, 297, 495, 301), (658, 28, 662, 32), (683, 34, 686, 37), (570, 278, 573, 281), (908, 16, 911, 19), (759, 258, 763, 262), (709, 46, 713, 50), (801, 9, 805, 12), (770, 51, 773, 55), (674, 11, 678, 14), (541, 88, 545, 92), (610, 318, 614, 322), (610, 347, 614, 350), (876, 865, 879, 869), (939, 766, 943, 770), (718, 948, 722, 952), (731, 717, 734, 720), (819, 798, 823, 801), (1076, 1042, 1079, 1046), (697, 890, 701, 893), (768, 886, 771, 890), (778, 878, 782, 881), (766, 908, 770, 911), (832, 925, 835, 929), (1023, 1102, 1026, 1106), (1086, 1083, 1090, 1086), (1093, 1033, 1097, 1037), (1000, 1203, 1003, 1207), (816, 1134, 819, 1138), (729, 1304, 732, 1307), (830, 1332, 833, 1336), (826, 1318, 830, 1322), (840, 1327, 844, 1330), (952, 1290, 955, 1293), (932, 1292, 936, 1295), (966, 1297, 970, 1300), (1046, 1159, 1049, 1162), (901, 1230, 904, 1233), (895, 1200, 899, 1203), (833, 1304, 837, 1307), (830, 1196, 833, 1200), (725, 1076, 729, 1079), (709, 1100, 713, 1104), (794, 1069, 798, 1072), (722, 1361, 725, 1364), (895, 1421, 899, 1424), (678, 1541, 681, 1545), (697, 1578, 701, 1582), (736, 1594, 740, 1598), (883, 1626, 886, 1629), (906, 1610, 909, 1614), (982, 1610, 985, 1614), (932, 1691, 936, 1695), (1092, 1651, 1095, 1654), (909, 1688, 913, 1691), (856, 1518, 860, 1522), (738, 1504, 740, 1511), (757, 1541, 761, 1545), (717, 1568, 720, 1571), (750, 1663, 754, 1667), (692, 1767, 695, 1771), (683, 1771, 686, 1775), (763, 1870, 766, 1874), (869, 1805, 872, 1808), (855, 1916, 858, 1920), (901, 1624, 904, 1628), (899, 87, 904, 88), (786, 228, 791, 230), (770, 265, 771, 271), (801, 28, 803, 34), (750, 763, 755, 764), (814, 939, 816, 945), (1037, 1099, 1039, 1104), (803, 1152, 805, 1157), (849, 1364, 851, 1369), (844, 1254, 846, 1260), (729, 1238, 731, 1244), (725, 1412, 731, 1414), (750, 1403, 752, 1408), (952, 1610, 954, 1615), (837, 39, 840, 41), (763, 165, 764, 168), (717, 142, 718, 145), (722, 203, 725, 205), (678, 200, 681, 202), (679, 340, 681, 343), (807, 173, 810, 175), (556, 69, 559, 71), (1047, 665, 1051, 667), (1005, 787, 1007, 791), (973, 791, 975, 794), (812, 771, 816, 773), (1077, 1021, 1079, 1024), (1093, 955, 1095, 959), (1037, 1017, 1039, 1021), (1037, 1092, 1040, 1093), (890, 1125, 893, 1127), (1023, 1182, 1024, 1185), (1005, 1187, 1007, 1191), (717, 1219, 720, 1221), (821, 1178, 823, 1182), (761, 1242, 763, 1246), (759, 1292, 761, 1295), (702, 1346, 706, 1348), (904, 1352, 908, 1353), (906, 1391, 908, 1394), (817, 1343, 819, 1346), (847, 1279, 849, 1283), (978, 1276, 980, 1279), (952, 1263, 954, 1267), (950, 1256, 954, 1258), (948, 1224, 950, 1228), (886, 1162, 890, 1164), (885, 1214, 888, 1215), (916, 1230, 920, 1231), (915, 1214, 918, 1215), (885, 1263, 888, 1265), (784, 1099, 787, 1100), (812, 1074, 816, 1076), (897, 1269, 899, 1272), (757, 1412, 761, 1414), (851, 1437, 855, 1438), (876, 1449, 878, 1453), (878, 1431, 879, 1435), (823, 1476, 826, 1477), (773, 1697, 775, 1700), (810, 1658, 812, 1661), (1099, 1658, 1100, 1661), (1026, 1614, 1028, 1617), (718, 1720, 720, 1723), (740, 1755, 743, 1757), (782, 1905, 786, 1907), (886, 1760, 888, 1764), (867, 1852, 869, 1856), (941, 1851, 943, 1854), (589, 338, 591, 340), (1037, 702, 1039, 704), (810, 865, 812, 867), (796, 874, 798, 876), (1053, 1033, 1054, 1035), (1042, 1046, 1044, 1047), (955, 1309, 957, 1311), (782, 1240, 784, 1242), (669, 1115, 671, 1116), (672, 1499, 674, 1500), (846, 1486, 847, 1488), (869, 1599, 870, 1601), (856, 1672, 858, 1674), (796, 1821, 798, 1822), (869, 1766, 870, 1767)
inflammatory: (1642, 336, 1647, 341), (1661, 311, 1667, 317), (1695, 334, 1700, 340), (899, 122, 904, 127), (1647, 311, 1654, 315), (1343, 200, 1350, 203), (1684, 338, 1690, 341), (1380, 150, 1384, 156), (1359, 157, 1362, 163), (1201, 142, 1205, 147), (1194, 253, 1198, 258), (1237, 260, 1242, 264), (1269, 246, 1274, 249), (1330, 246, 1336, 249), (1437, 28, 1440, 34), (1396, 34, 1399, 39), (1164, 288, 1169, 292), (1279, 237, 1283, 242), (1364, 140, 1368, 143), (1254, 225, 1258, 228), (1263, 265, 1267, 269), (1201, 308, 1205, 311), (1223, 294, 1226, 297), (1196, 51, 1200, 55), (1384, 37, 1387, 41), (810, 57, 814, 60), (1200, 44, 1203, 48), (1272, 343, 1276, 347), (1238, 214, 1242, 218), (1352, 235, 1353, 239), (1231, 306, 1235, 308), (885, 48, 886, 51), (1108, 225, 1109, 226), (1267, 278, 1269, 280)
lymphocyte: (1382, 165, 1389, 170), (1053, 60, 1058, 67), (1661, 343, 1667, 349), (1322, 34, 1327, 39), (1373, 161, 1378, 166), (1189, 177, 1194, 182), (1164, 154, 1169, 159), (1387, 65, 1392, 71), (1131, 101, 1136, 106), (839, 278, 844, 283), (1039, 320, 1044, 326), (922, 209, 927, 214), (911, 219, 916, 225), (964, 370, 970, 375), (1185, 28, 1191, 34), (1152, 55, 1157, 60), (1748, 165, 1752, 170), (1789, 179, 1792, 184), (1589, 260, 1594, 264), (1677, 274, 1683, 278), (1288, 216, 1293, 219), (1290, 297, 1295, 301), (1214, 108, 1219, 111), (1244, 73, 1247, 78), (1290, 44, 1295, 48), (1230, 129, 1233, 134), (1240, 124, 1244, 129), (1244, 64, 1247, 69), (1316, 46, 1322, 50), (1279, 138, 1284, 142), (1322, 106, 1325, 111), (1348, 19, 1352, 25), (1366, 76, 1371, 80), (1318, 262, 1322, 267), (1164, 189, 1169, 193), (982, 18, 987, 21), (1095, 18, 1099, 23), (1143, 32, 1148, 35), (1108, 97, 1111, 103), (1065, 30, 1069, 35), (1106, 50, 1109, 55), (1143, 110, 1148, 113), (1152, 81, 1155, 87), (1146, 41, 1150, 46), (1242, 39, 1246, 44), (1182, 122, 1185, 127), (1224, 191, 1230, 195), (1000, 184, 1005, 188), (1065, 218, 1069, 223), (1046, 203, 1051, 207), (890, 257, 895, 260), (870, 260, 876, 264), (858, 262, 863, 265), (849, 269, 853, 274), (858, 276, 863, 280), (1042, 329, 1046, 334), (1085, 340, 1090, 343), (1090, 352, 1095, 356), (1095, 366, 1099, 372), (1093, 318, 1097, 324), (977, 317, 980, 322), (932, 336, 938, 340), (934, 350, 939, 354), (938, 359, 941, 364), (950, 370, 955, 373), (885, 350, 888, 356), (881, 393, 886, 396), (784, 373, 789, 377), (989, 372, 994, 375), (1109, 317, 1115, 320), (1127, 216, 1131, 221), (1131, 154, 1134, 159), (1072, 180, 1076, 186), (1178, 51, 1182, 57), (1194, 23, 1200, 27), (1182, 41, 1185, 46), (1072, 42, 1076, 48), (1203, 188, 1207, 193), (1861, 46, 1865, 50), (1674, 315, 1677, 318), (1665, 359, 1668, 363), (1203, 101, 1207, 104), (1244, 85, 1247, 88), (1253, 83, 1256, 87), (1284, 57, 1288, 60), (1192, 76, 1196, 80), (1205, 80, 1208, 83), (1242, 117, 1246, 120), (1300, 76, 1304, 80), (1306, 65, 1309, 69), (1286, 166, 1290, 170), (1306, 166, 1309, 170), (1307, 150, 1311, 154), (1355, 73, 1359, 76), (1334, 163, 1338, 166), (1299, 184, 1302, 188), (1302, 234, 1306, 237), (1219, 207, 1223, 211), (1157, 159, 1161, 163), (1302, 142, 1306, 145), (1431, 46, 1435, 50), (1442, 48, 1445, 51), (1093, 2, 1097, 5), (1122, 18, 1125, 21), (1021, 108, 1024, 111), (1003, 115, 1007, 119), (994, 126, 998, 129), (1118, 58, 1122, 62), (1138, 74, 1141, 78), (1132, 110, 1136, 113), (1122, 110, 1125, 113), (1115, 119, 1118, 122), (1115, 110, 1118, 113), (1129, 120, 1132, 124), (1154, 74, 1157, 78), (1162, 85, 1166, 88), (1180, 88, 1184, 92), (1164, 57, 1168, 60), (1159, 46, 1162, 50), (1138, 42, 1141, 46), (1238, 12, 1242, 16), (1244, 27, 1246, 34), (1254, 28, 1258, 32), (939, 205, 943, 209), (936, 189, 939, 193), (952, 202, 955, 205), (1033, 142, 1037, 145), (1221, 124, 1224, 127), (977, 281, 980, 285), (1051, 225, 1054, 228), (1072, 248, 1076, 251), (1063, 265, 1067, 269), (1058, 281, 1062, 285), (1100, 195, 1104, 198), (1014, 211, 1017, 214), (952, 235, 955, 239), (941, 216, 945, 219), (915, 257, 918, 260), (1000, 294, 1003, 297), (1037, 306, 1040, 310), (1051, 311, 1054, 315), (1054, 324, 1058, 327), (941, 333, 945, 336), (948, 327, 952, 331), (945, 320, 948, 324), (948, 359, 952, 363), (916, 359, 920, 363), (925, 349, 929, 352), (867, 350, 870, 354), (863, 361, 867, 364), (895, 393, 899, 396), (832, 391, 835, 395), (784, 432, 787, 435), (1010, 161, 1014, 165), (1019, 156, 1023, 159), (991, 165, 994, 168), (955, 191, 959, 195), (961, 202, 964, 205), (906, 234, 909, 237), (908, 278, 911, 281), (893, 278, 897, 281), (964, 361, 968, 364), (973, 379, 977, 382), (982, 391, 985, 395), (1097, 88, 1100, 92), (1065, 110, 1069, 113), (1049, 117, 1053, 120), (1047, 142, 1051, 145), (1111, 241, 1115, 244), (1150, 211, 1154, 214), (1154, 203, 1157, 207), (1076, 166, 1079, 170), (1171, 234, 1175, 237), (1178, 69, 1182, 73), (1171, 32, 1175, 35), (1090, 99, 1093, 103), (1047, 83, 1051, 87), (1201, 71, 1205, 74), (913, 25, 916, 28), (993, 4, 996, 7), (1198, 235, 1201, 239), (1251, 133, 1254, 136), (1226, 149, 1230, 152), (1231, 41, 1235, 44), (1230, 108, 1233, 111), (1219, 81, 1223, 85), (1035, 214, 1039, 218), (991, 276, 994, 280), (918, 272, 922, 276), (950, 274, 954, 278), (934, 246, 938, 249), (927, 257, 931, 260), (1283, 294, 1284, 299), (1235, 58, 1240, 60), (1316, 69, 1322, 71), (1320, 25, 1325, 27), (1359, 19, 1361, 25), (1309, 226, 1315, 228), (1184, 80, 1185, 85), (1171, 80, 1177, 81), (1016, 285, 1021, 287), (1086, 421, 1088, 426), (959, 184, 964, 186), (909, 310, 915, 311), (1169, 207, 1171, 212), (1226, 30, 1228, 35), (1219, 71, 1221, 76), (1231, 85, 1233, 88), (1254, 71, 1258, 73), (1277, 48, 1281, 50), (1299, 53, 1300, 57), (1295, 88, 1297, 92), (1313, 76, 1316, 78), (1329, 46, 1332, 48), (1254, 161, 1258, 163), (1346, 122, 1350, 124), (1306, 258, 1309, 260), (1362, 65, 1364, 69), (1108, 12, 1109, 16), (1111, 18, 1115, 19), (1146, 12, 1150, 14), (1143, 23, 1146, 25), (1074, 28, 1076, 32), (1085, 32, 1086, 35), (1086, 55, 1088, 58), (959, 67, 961, 71), (962, 106, 966, 108), (1003, 170, 1007, 172), (1028, 150, 1031, 152), (1182, 110, 1184, 113), (1014, 193, 1017, 195), (1054, 179, 1056, 182), (1024, 276, 1026, 280), (1054, 225, 1058, 226), (1065, 274, 1069, 276), (908, 264, 909, 267), (901, 248, 904, 249), (872, 361, 876, 363), (980, 403, 982, 407), (1056, 334, 1058, 338), (1074, 310, 1076, 313), (1095, 287, 1097, 290), (931, 359, 932, 363), (945, 375, 948, 377), (876, 386, 878, 389), (888, 382, 892, 384), (869, 405, 872, 407), (964, 202, 968, 203), (954, 380, 957, 382), (982, 386, 985, 387), (978, 372, 982, 373), (1012, 391, 1016, 393), (1035, 124, 1037, 127), (1056, 106, 1058, 110), (1062, 159, 1065, 161), (1017, 145, 1021, 147), (1053, 271, 1054, 274), (1099, 311, 1102, 313), (1118, 186, 1120, 189), (1173, 244, 1177, 246), (1173, 258, 1177, 260), (1180, 225, 1184, 226), (1184, 235, 1187, 237), (1182, 134, 1185, 136), (1178, 140, 1182, 142), (1191, 147, 1194, 149), (1154, 143, 1157, 145), (1162, 143, 1166, 145), (1168, 44, 1169, 48), (1132, 94, 1136, 96), (1086, 85, 1090, 87), (1065, 55, 1067, 58), (1198, 62, 1200, 65), (913, 50, 916, 51), (904, 35, 908, 37), (922, 19, 925, 21), (948, 12, 952, 14), (989, 35, 993, 37), (982, 73, 984, 76), (980, 80, 982, 83), (985, 96, 989, 97), (902, 218, 906, 219), (1196, 226, 1200, 228), (1201, 207, 1205, 209), (1196, 205, 1200, 207), (1205, 115, 1208, 117), (1171, 90, 1173, 94), (1214, 51, 1215, 55), (1215, 37, 1219, 39), (1221, 97, 1223, 101), (1226, 73, 1228, 76), (1212, 88, 1214, 92), (1046, 214, 1049, 216), (996, 269, 1000, 271), (915, 287, 918, 288), (920, 242, 924, 244), (925, 285, 927, 288), (1031, 108, 1033, 110), (977, 99, 978, 101), (978, 189, 980, 191), (1053, 173, 1054, 175), (1003, 248, 1005, 249), (869, 382, 870, 384), (816, 363, 817, 364), (1010, 398, 1012, 400), (1067, 97, 1069, 99), (1054, 246, 1056, 248), (1044, 255, 1046, 257), (1104, 281, 1106, 283), (1129, 145, 1131, 147), (1123, 134, 1125, 136), (1168, 223, 1169, 225), (1191, 246, 1192, 248), (1077, 96, 1079, 97), (941, 85, 943, 87), (961, 80, 962, 81), (908, 57, 909, 58), (938, 44, 939, 46), (913, 205, 915, 207), (1212, 195, 1214, 196), (1161, 104, 1162, 106), (1143, 87, 1145, 88), (1219, 44, 1221, 46), (1237, 80, 1238, 81)
